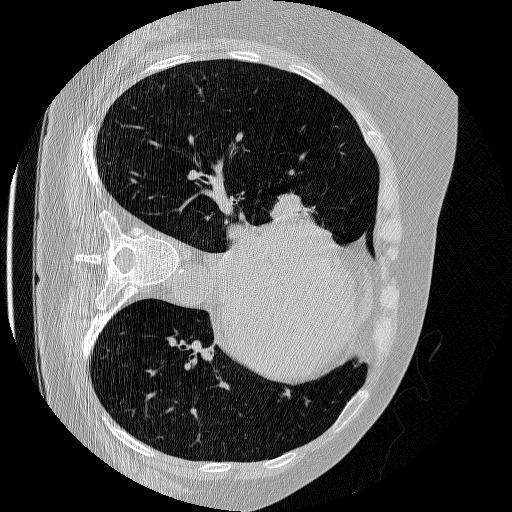nodule: (270, 191, 304, 225)
